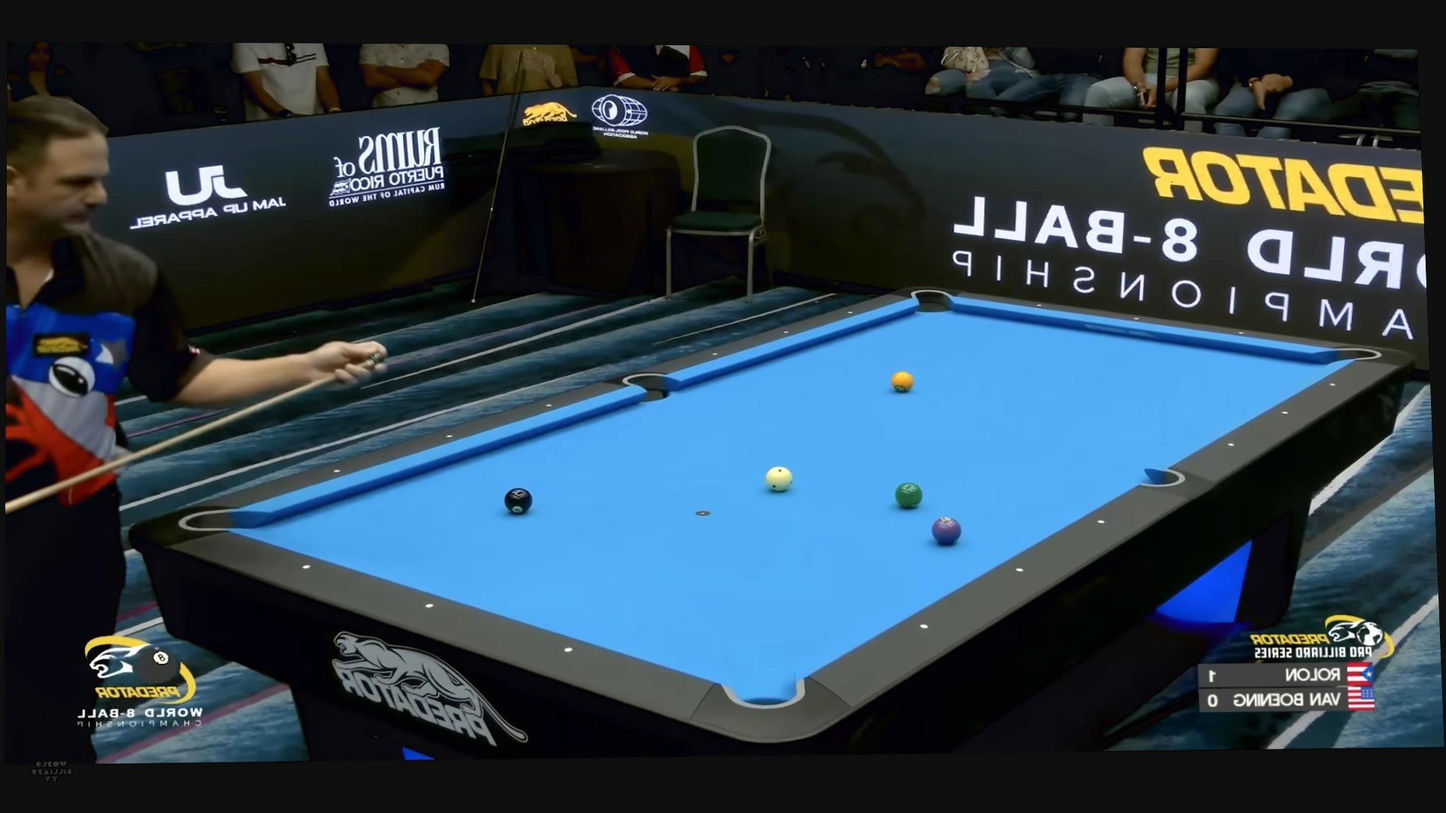Black: (504, 487, 533, 514)
Cue: (765, 466, 793, 492)
Solid: (562, 645, 576, 657), (422, 600, 436, 612), (299, 560, 313, 572), (1014, 565, 1026, 576), (1095, 517, 1108, 527), (918, 622, 930, 632), (1281, 408, 1290, 417), (1226, 441, 1235, 449), (1328, 380, 1337, 388), (333, 468, 340, 474), (1133, 316, 1140, 322), (1035, 302, 1042, 308), (783, 329, 790, 335), (546, 403, 552, 409), (1238, 330, 1244, 336), (447, 434, 453, 439), (847, 310, 853, 315), (712, 352, 718, 357)
Striped: (931, 516, 961, 543), (894, 482, 923, 509), (891, 371, 915, 393)
